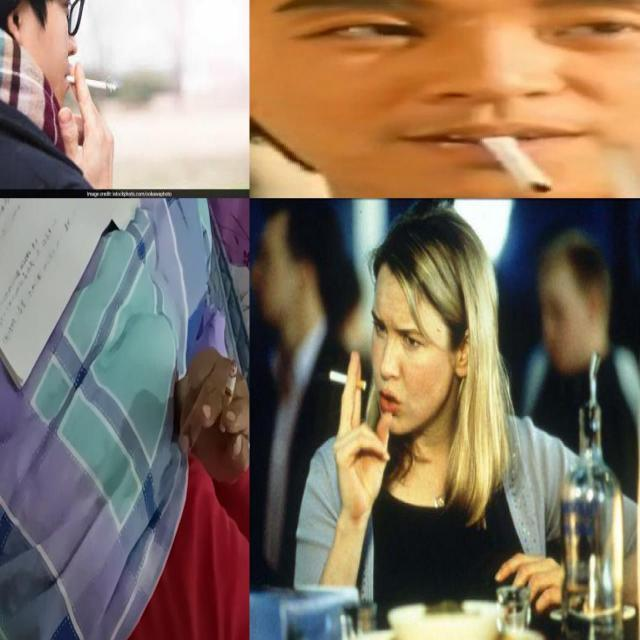smoke: (329, 370, 400, 510), (172, 345, 249, 470), (64, 72, 133, 187), (474, 129, 554, 194)
